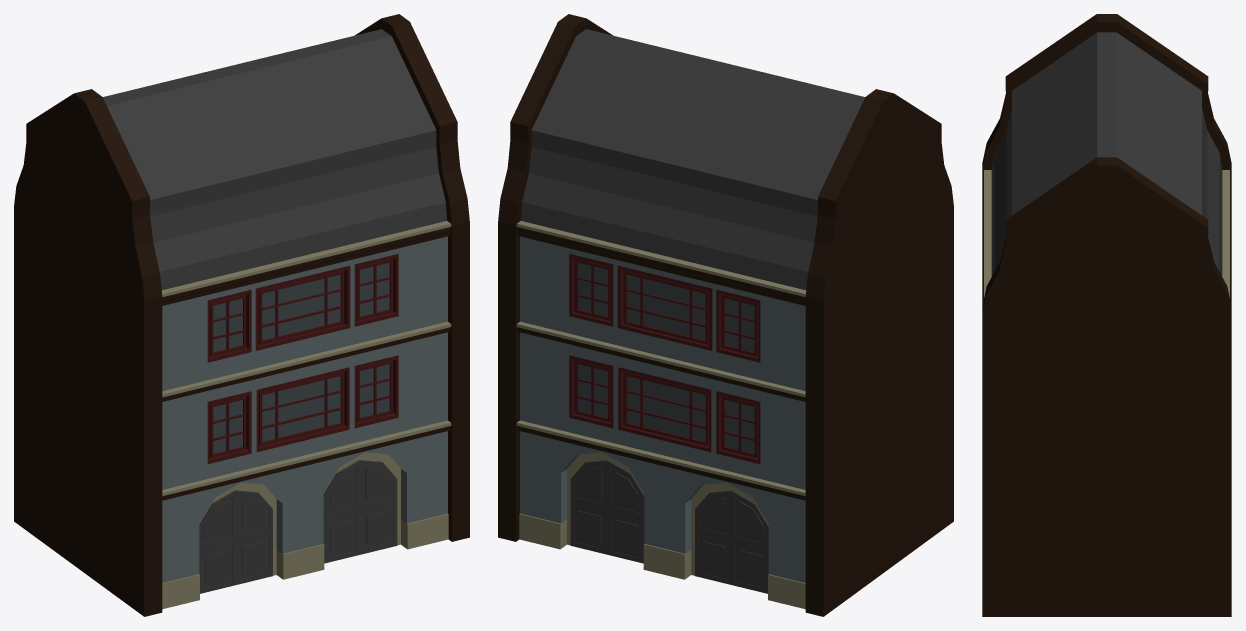
3 renders of one model, left to right at view 1: azimuth 30°, elevation 25°; view 2: azimuth 150°, elevation 25°; view 3: azimuth 270°, elevation 25°, orthographic. The views are drawn at different scales.
Visible parts, largest first — view 1: Building2_Small.002_Cube.015; view 2: Building2_Small.002_Cube.015; view 3: Building2_Small.002_Cube.015.
Part boxes in pixels (left/top/right/bottom): Building2_Small.002_Cube.015: left=14, top=14, right=469, bottom=616; Building2_Small.002_Cube.015: left=498, top=14, right=953, bottom=616; Building2_Small.002_Cube.015: left=982, top=14, right=1231, bottom=616.
Bounding box in the file's own units: 430 × 596 × 298.
